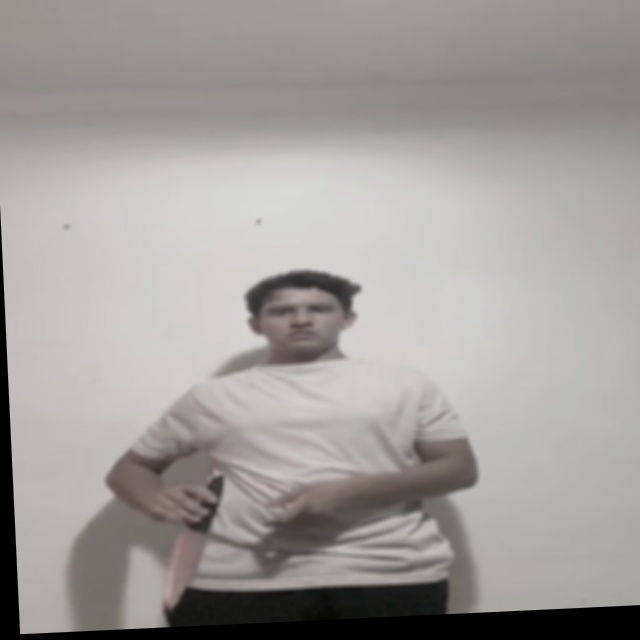Sharp-Object: (156, 529, 209, 604)
